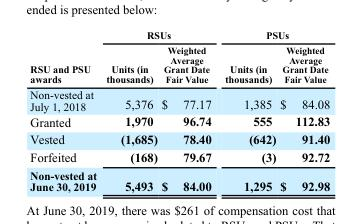table: (29, 28, 329, 192)
table column: (29, 28, 100, 192), (217, 28, 277, 192), (158, 28, 217, 192), (100, 28, 158, 192), (277, 28, 329, 192)
table column header: (29, 28, 329, 86)
table row: (29, 42, 329, 86), (29, 86, 329, 113), (29, 166, 329, 192), (29, 147, 329, 166), (29, 113, 329, 130), (29, 130, 329, 147), (29, 28, 329, 42)
table spanning cell: (29, 28, 100, 86), (100, 28, 217, 42), (217, 28, 329, 42)
